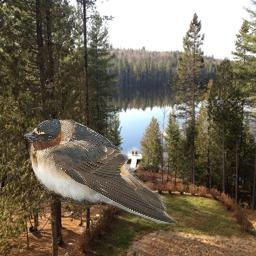Swallow: (24, 119, 178, 224)
